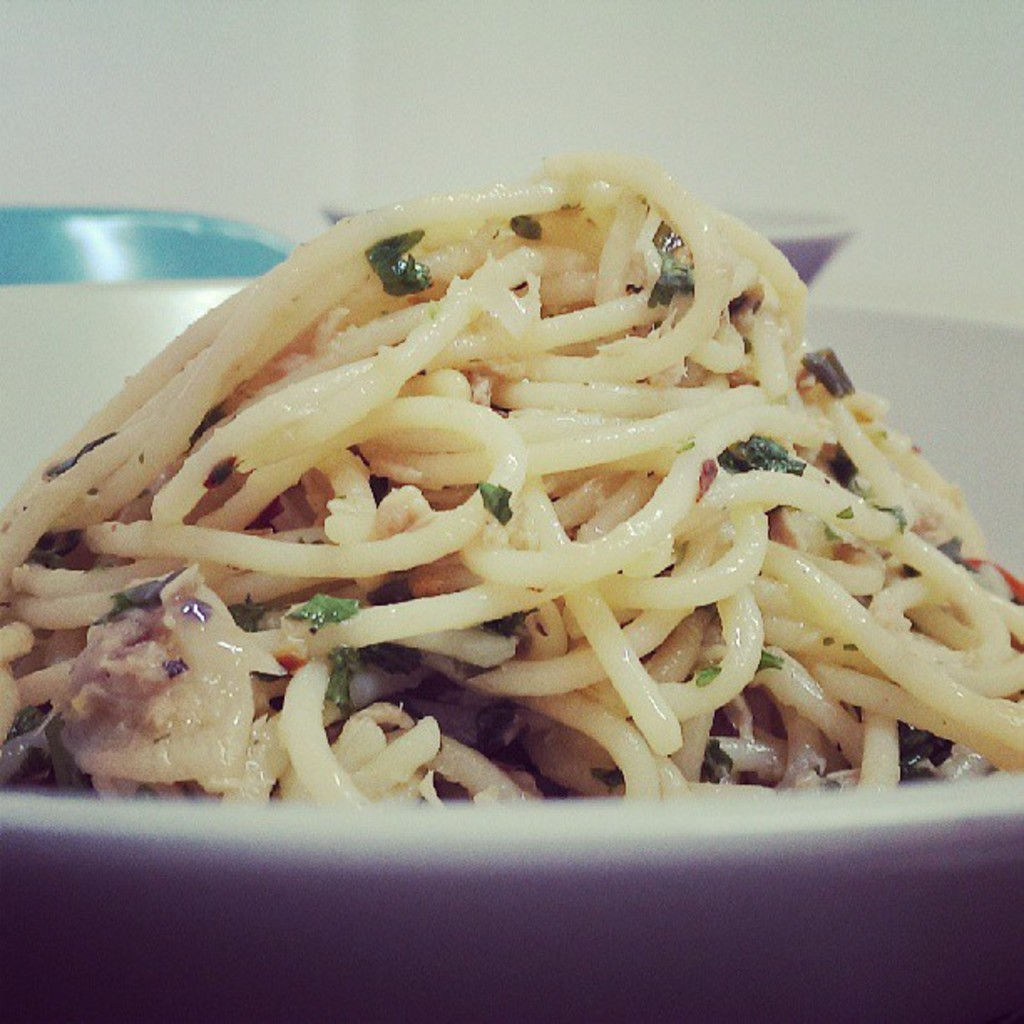pasta: (0, 152, 1022, 795)
